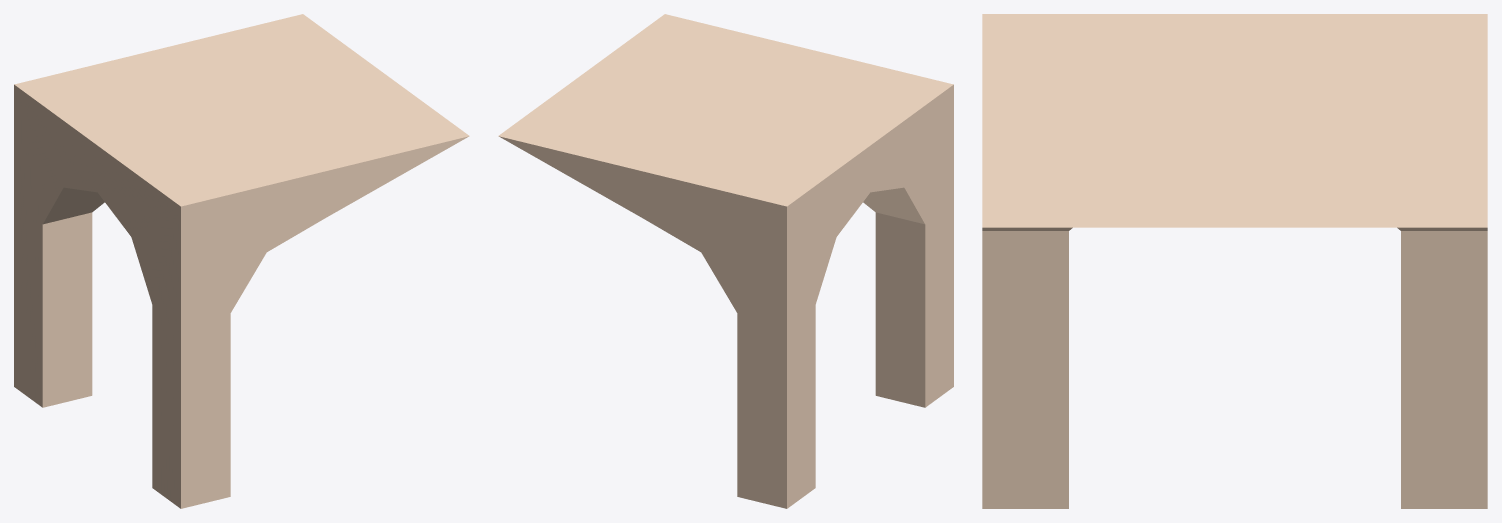
Rendered from Abstract_Castle_Block_Single_BridgeEnd_Cream_01.fbx.
The picture shows the model from 3 angles, left to right: view 1: azimuth 30°, elevation 25°; view 2: azimuth 150°, elevation 25°; view 3: azimuth 270°, elevation 25°; orthographic projection. The views are drawn at different scales.
Parts seen in each view (by area): view 1: Model; view 2: Model; view 3: Model.
Boxes of the visible parts, bbox=[...] form: Model: bbox=[14, 14, 469, 508]; Model: bbox=[498, 14, 953, 508]; Model: bbox=[982, 14, 1487, 508].
Bounding box in the file's own units: 1000 × 1000 × 1000.
